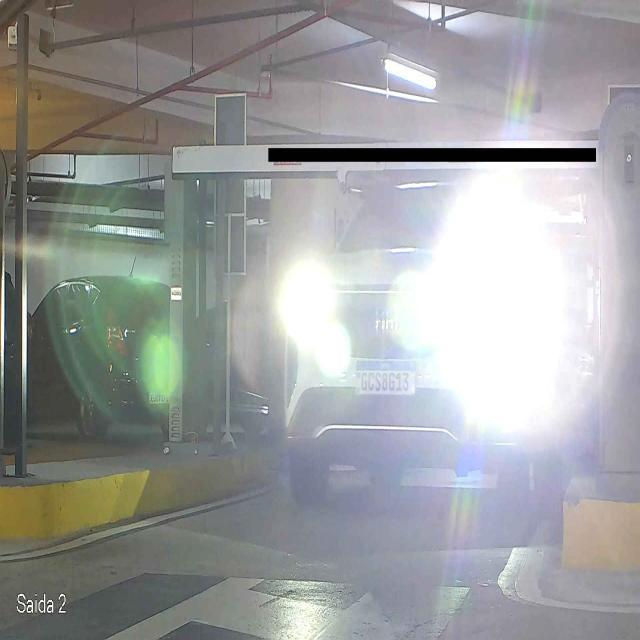mercosul_plate: (353, 357, 419, 398)
